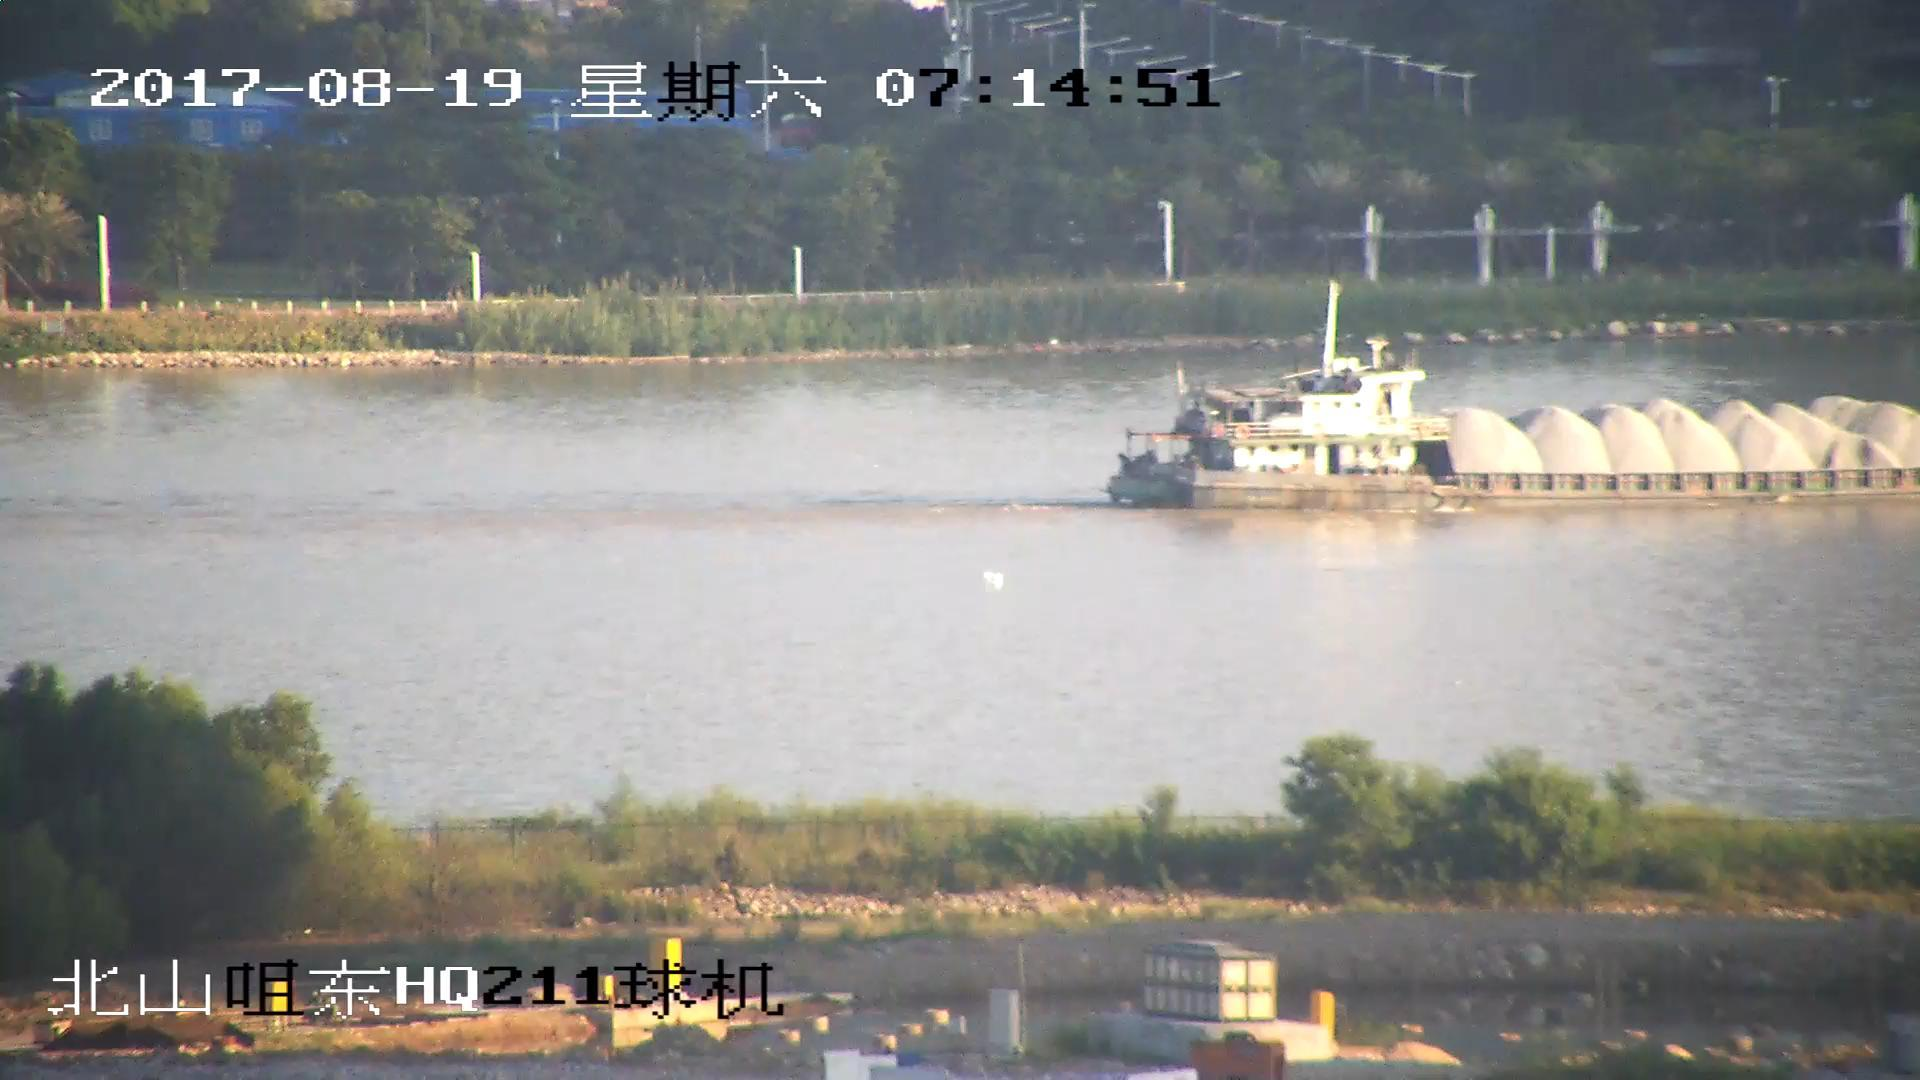Ship: (1098, 286, 1920, 514)
